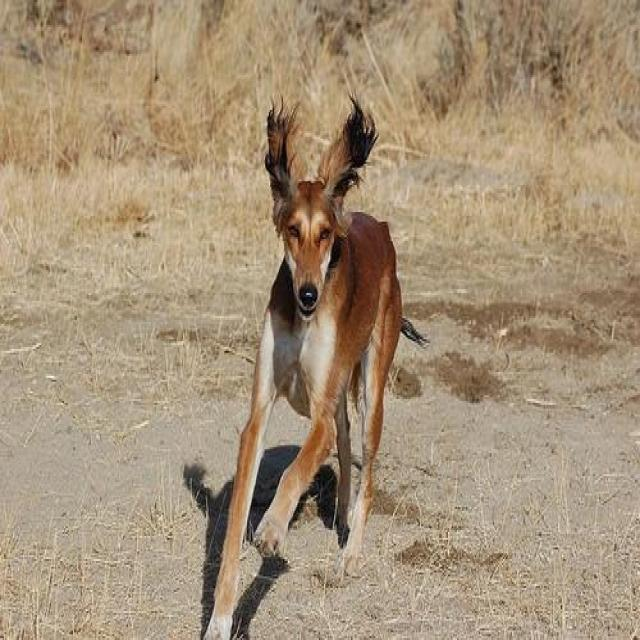saluki: (201, 95, 430, 638)
